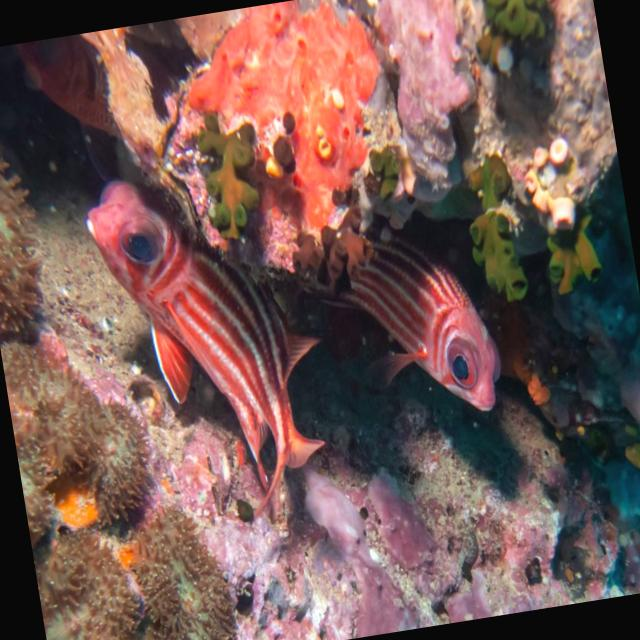Asker Baligi: (78, 149, 349, 540), (287, 200, 510, 440)
